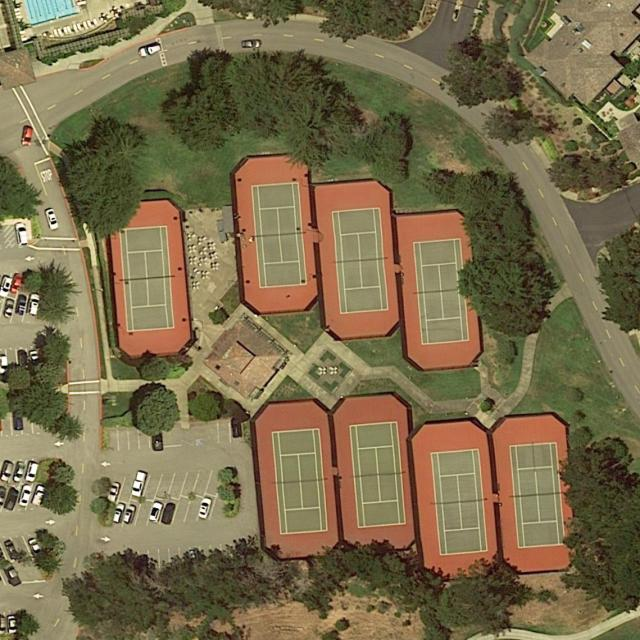small-vehicle: (1, 560, 21, 588), (131, 471, 148, 499), (30, 484, 48, 509), (26, 537, 44, 561), (2, 489, 20, 513), (3, 540, 21, 562), (138, 42, 162, 58), (160, 502, 176, 526), (18, 484, 33, 509), (44, 208, 60, 231), (24, 461, 39, 484), (197, 497, 212, 520), (9, 273, 24, 295), (149, 502, 164, 524), (27, 293, 41, 316), (12, 461, 26, 484), (107, 481, 121, 504), (15, 222, 28, 246), (14, 295, 28, 316), (113, 502, 126, 524), (3, 298, 16, 319), (21, 126, 34, 147), (17, 350, 29, 372), (152, 429, 164, 451), (123, 505, 136, 525), (12, 409, 23, 432), (5, 613, 17, 634), (1, 462, 14, 481), (29, 349, 41, 369), (231, 418, 242, 439), (242, 39, 261, 50)
